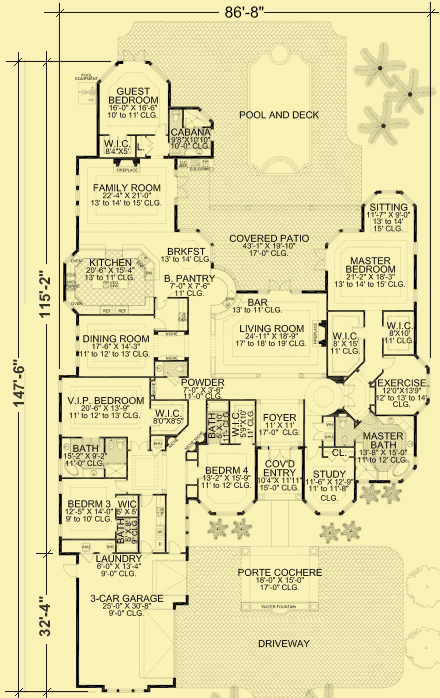door: (343, 382, 358, 407), (125, 438, 148, 453), (175, 176, 188, 201), (312, 420, 324, 441), (151, 315, 165, 332), (146, 136, 155, 153)
